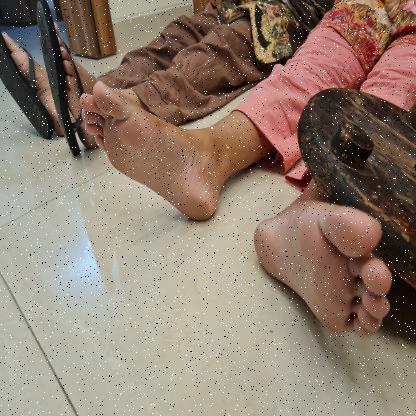leg: (76, 71, 236, 229), (250, 179, 397, 343), (31, 0, 132, 157), (0, 19, 64, 139)
